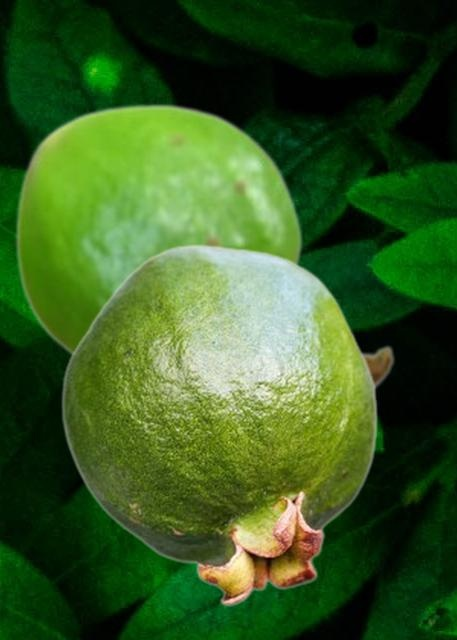guava: (60, 244, 377, 606), (14, 102, 395, 389)
